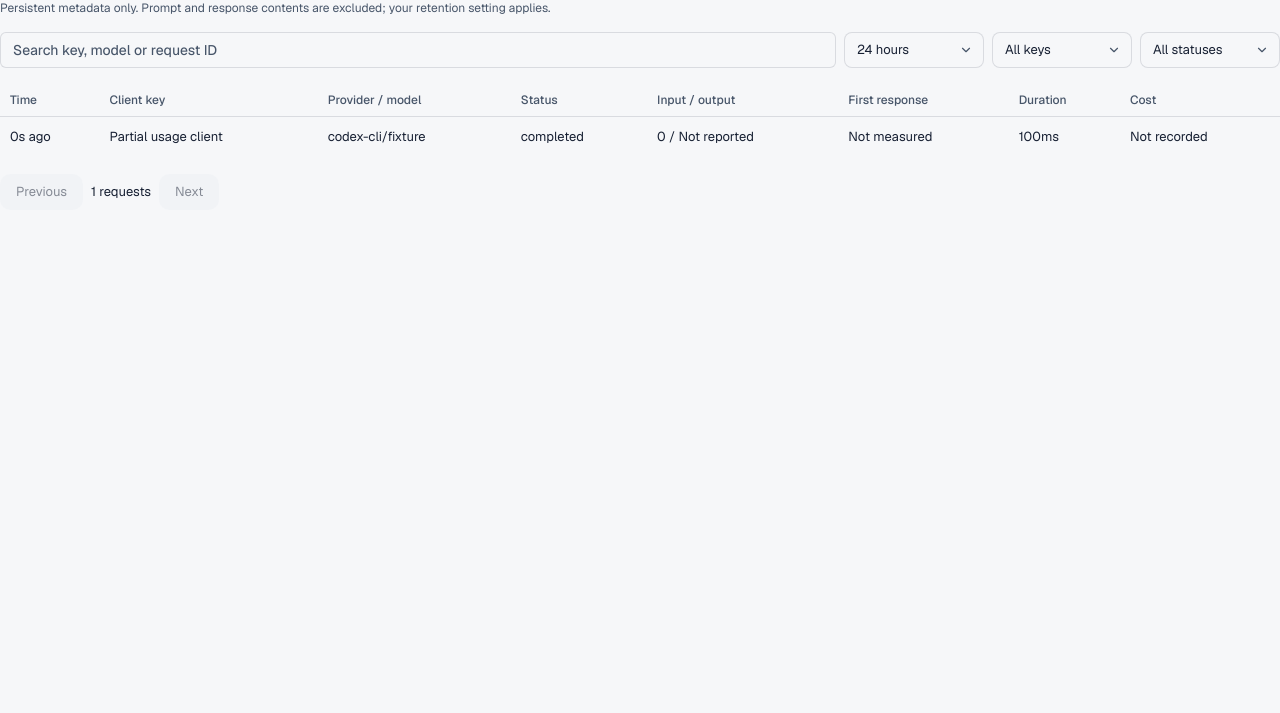
shows partial usage without turning missing dimensions into zero
The image size is (1280, 713).
Click the button "Partial usage client".
click(166, 137)  # box [110,127,223,147]
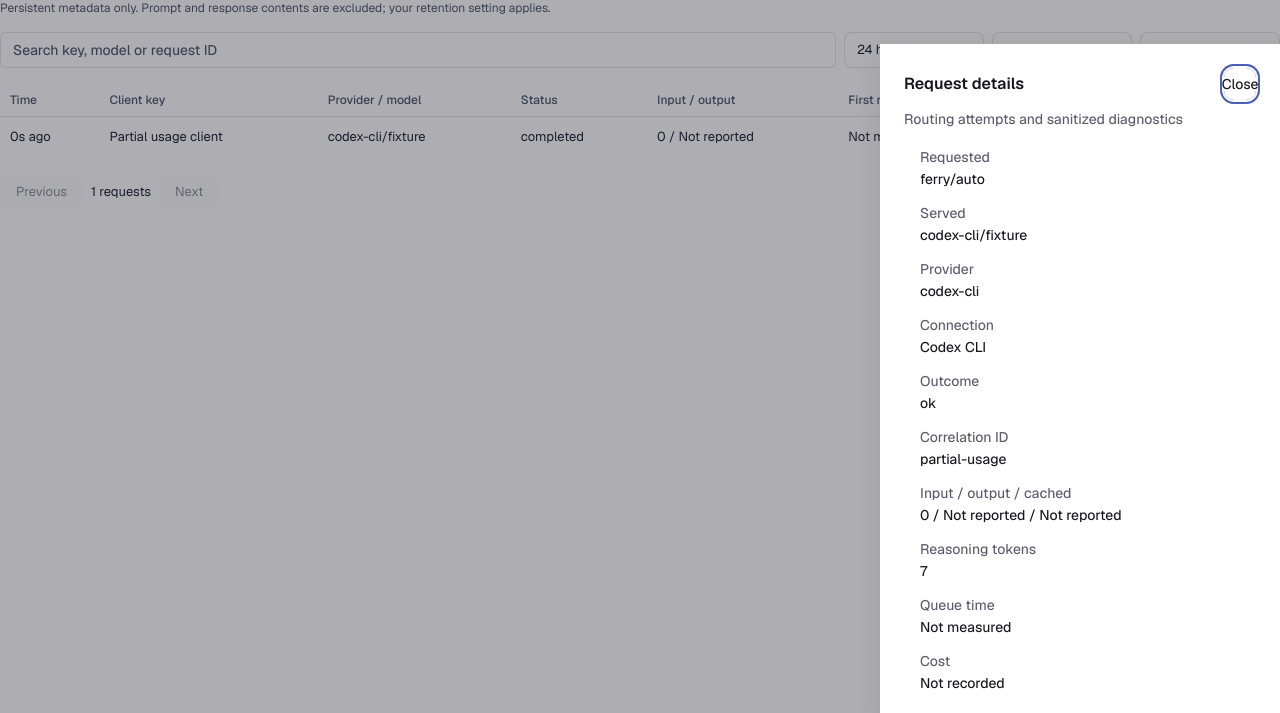
Check: the heading "Request details" is shown, box [904,72,1024,96]
Check: the text "Codex CLI" is shown, box [920,338,986,356]
